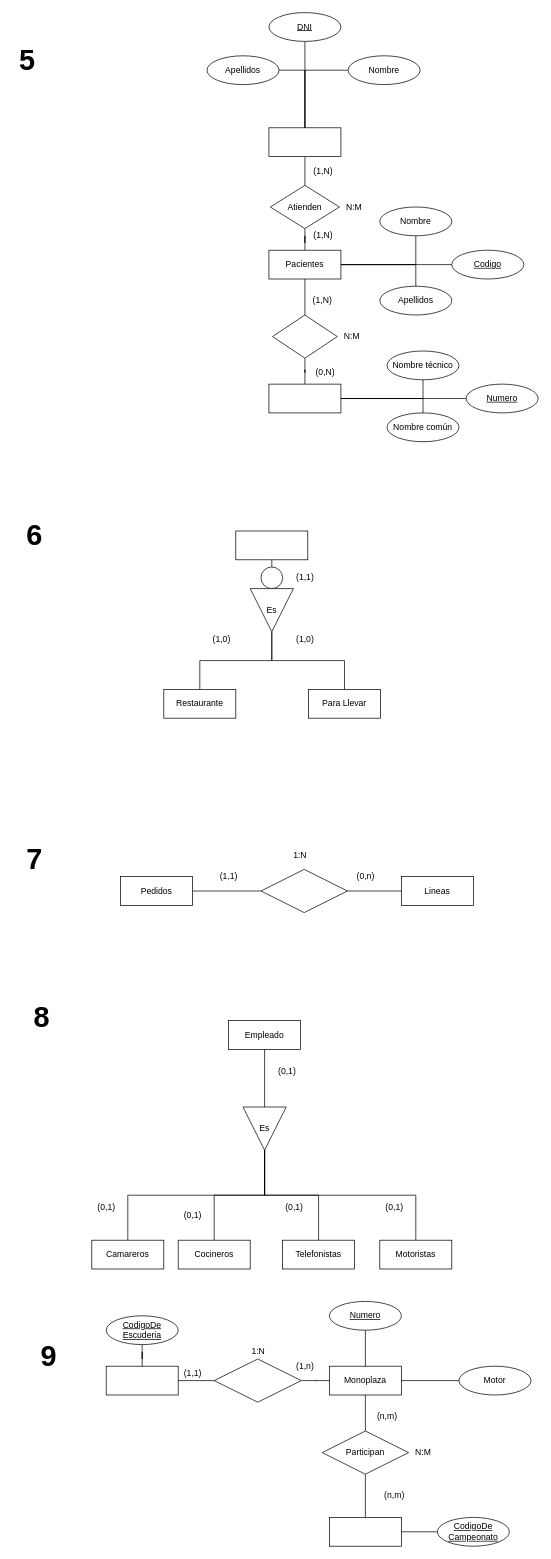
Image size: 551x1559. Some labels were removed from this diagram. The shapes that lost their labels are listed below. From the top down, each one's centre as x and y in pixels, then its label:
the point at 304,142: Medicos
the point at 304,336: Tienen
the point at 304,398: Enfermedades
the point at 271,545: Pizzas
the point at 303,891: Registran
the point at 141,1380: Escuderia
the point at 257,1380: Tiene
the point at 365,1531: Campeonato
